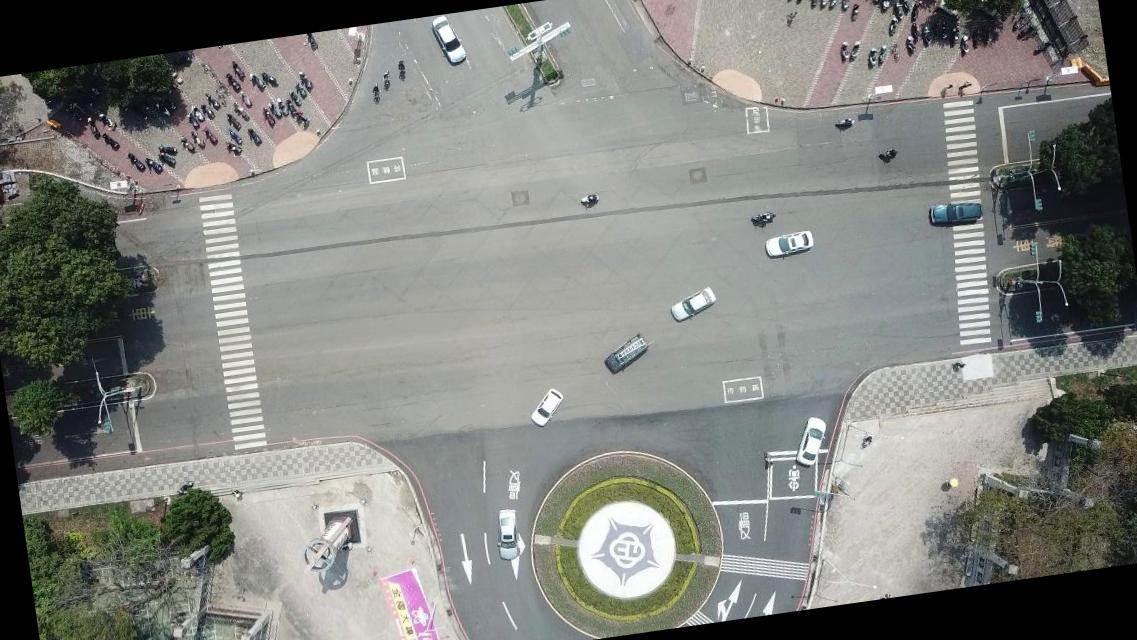vehicle: (428, 13, 468, 69), (790, 414, 831, 468), (601, 332, 650, 376), (667, 286, 719, 326), (926, 197, 987, 228), (763, 229, 817, 261), (493, 507, 523, 563), (526, 386, 566, 428)
